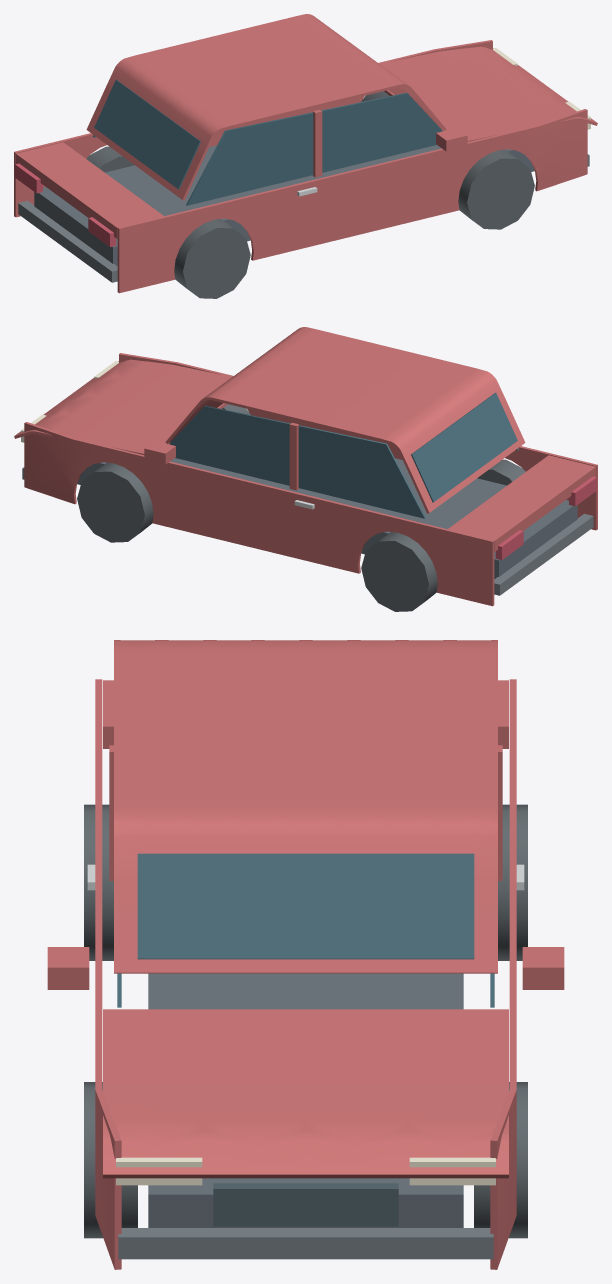
3 renders of one model, top to bottom at view 1: azimuth 30°, elevation 25°; view 2: azimuth 150°, elevation 25°; view 3: azimuth 270°, elevation 25°, orthographic. The views are drawn at different scales.
Visible parts, largest first — view 1: arched_fender_right, side_glass_right, rear_roof_fold, bent_hood, front_roof_fold, underbody, rear_deck, rear_windshield, wheel_front_right, wheel_rear_right, arched_fender_left, rear_bumper (+5 smaller); view 2: arched_fender_left, side_glass_left, rear_roof_fold, bent_hood, front_roof_fold, underbody, rear_deck, rear_windshield, wheel_front_left, wheel_rear_left, arched_fender_right, rear_bumper (+5 smaller); view 3: bent_hood, front_roof_fold, front_windshield, rear_roof_fold, underbody, front_bumper, front_grille, arched_fender_left, arched_fender_right, wheel_rear_left, wheel_rear_right, wheel_front_left (+6 smaller).
Part boxes in pixels (<box>): arched_fender_right: <box>117,109,587,293</box>; side_glass_right: <box>186,92,442,205</box>; rear_roof_fold: <box>86,36,311,200</box>; bent_hood: <box>380,46,597,141</box>; front_roof_fold: <box>216,14,446,130</box>; underbody: <box>34,145,534,265</box>; rear_deck: <box>16,142,163,238</box>; rear_windshield: <box>94,79,200,189</box>; wheel_front_right: <box>458,149,534,229</box>; wheel_rear_right: <box>174,219,250,298</box>; arched_fender_left: <box>14,40,492,217</box>; rear_bumper: <box>18,200,117,282</box>; arched_fender_left: <box>24,422,494,606</box>; side_glass_left: <box>169,405,425,518</box>; rear_roof_fold: <box>300,349,525,513</box>; bent_hood: <box>14,359,231,454</box>; front_roof_fold: <box>165,327,395,443</box>; underbody: <box>77,458,577,578</box>; rear_deck: <box>448,455,595,551</box>; rear_windshield: <box>411,392,517,502</box>; wheel_front_left: <box>77,462,153,542</box>; wheel_rear_left: <box>361,532,437,611</box>; arched_fender_right: <box>119,353,597,530</box>; rear_bumper: <box>494,513,593,595</box>; bent_hood: <box>103,1009,508,1178</box>; front_roof_fold: <box>114,729,497,973</box>; front_windshield: <box>137,853,474,959</box>; rear_roof_fold: <box>114,640,497,728</box>; underbody: <box>148,973,463,1227</box>; front_bumper: <box>118,1228,493,1259</box>; front_grille: <box>213,1183,398,1226</box>; arched_fender_left: <box>490,679,516,1269</box>; arched_fender_right: <box>95,679,121,1269</box>; wheel_rear_left: <box>498,804,527,960</box>; wheel_rear_right: <box>84,804,113,960</box>; wheel_front_left: <box>474,1082,527,1238</box>.
Bounding box in the file's own units: 4.57 × 1.46 × 2.11.
